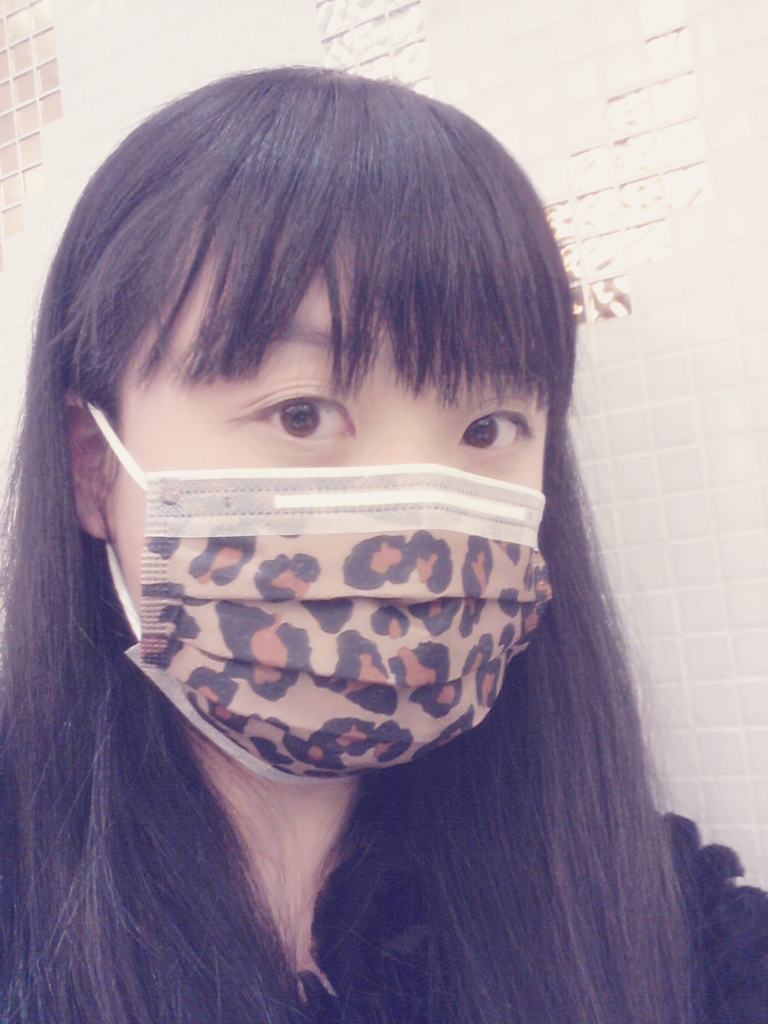face_mask: (134, 227, 529, 764)
